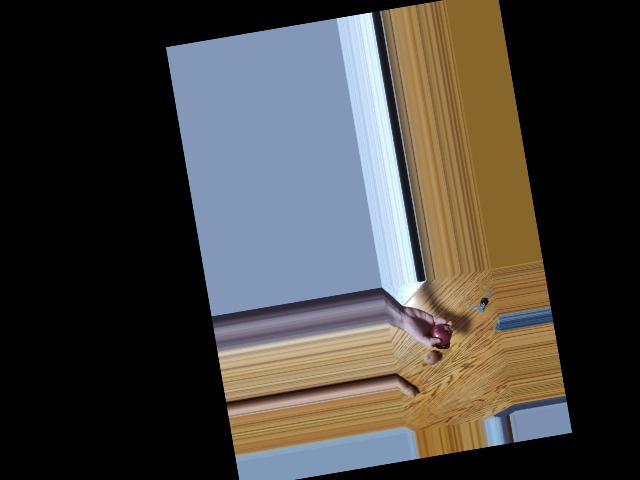onion: (419, 345, 439, 365)
